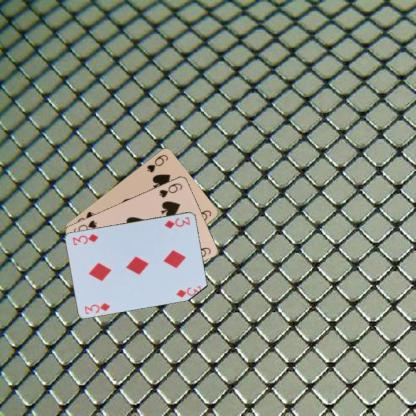3d: (82, 300, 112, 315), (162, 214, 191, 229)
6s: (144, 152, 170, 174), (156, 180, 184, 199)
